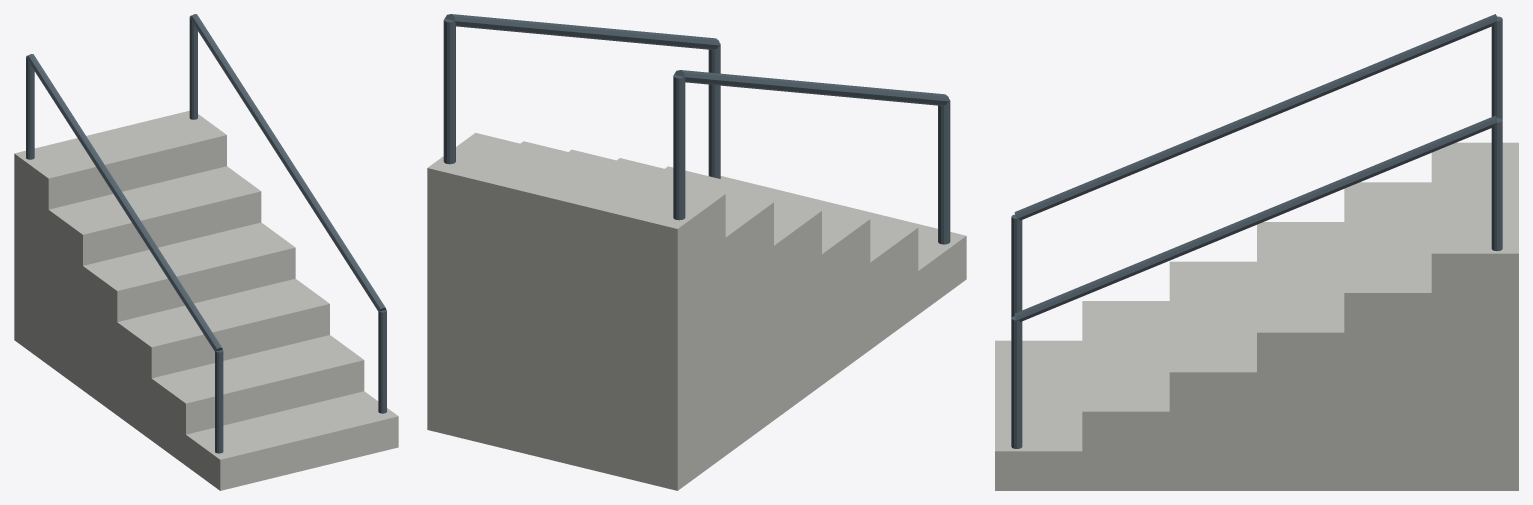
Rendered from football-soccer-club-grounds-stand-stair-aisle-f4e60a60.glb.
3 views of the same model, side by side, from view 1: azimuth 30°, elevation 25°; view 2: azimuth 150°, elevation 25°; view 3: azimuth 270°, elevation 25° (orthographic). The views are drawn at different scales.
Visible parts, largest first — view 1: stand-stair-aisle; view 2: stand-stair-aisle; view 3: stand-stair-aisle.
Boxes of the visible parts, x1=… form: stand-stair-aisle: x1=14, y1=14, x2=398, y2=490; stand-stair-aisle: x1=427, y1=14, x2=966, y2=490; stand-stair-aisle: x1=995, y1=14, x2=1518, y2=490.
Bounding box in the file's own units: 1.2 × 1.87 × 2.4.
